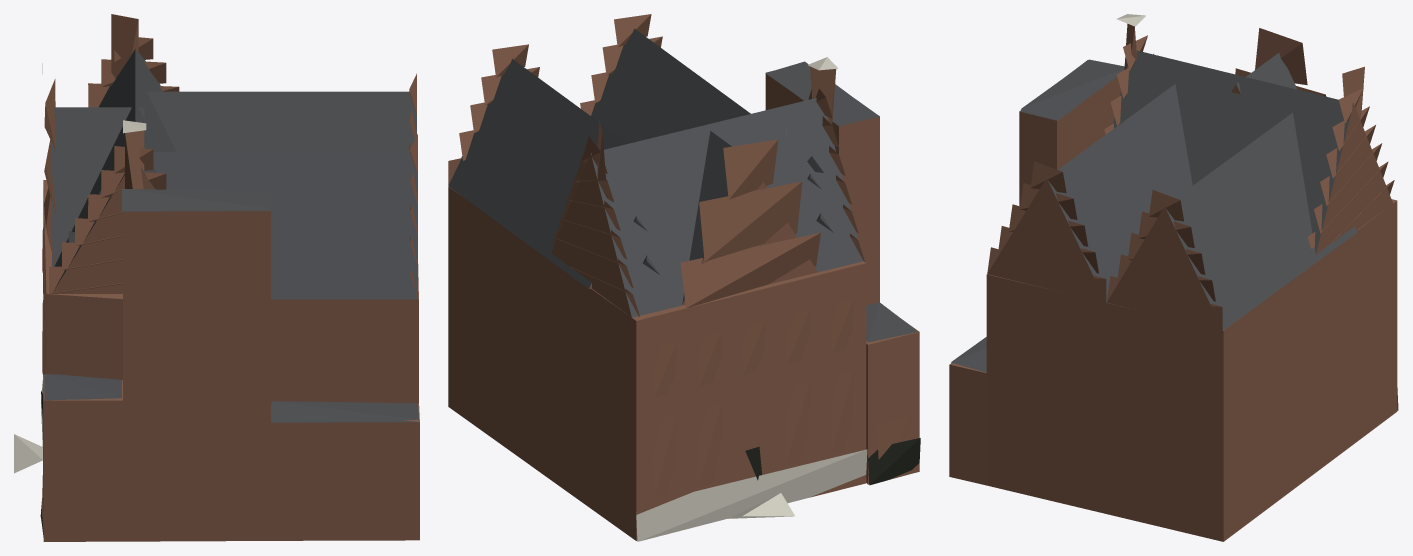
File: huis-met-de-hoofden.lod2.glb
3 renders of one model, left to right at view 1: azimuth 30°, elevation 25°; view 2: azimuth 150°, elevation 25°; view 3: azimuth 270°, elevation 25°, orthographic. The views are drawn at different scales.
Parts seen in each view (by area): view 1: lod2; view 2: lod2; view 3: lod2.
Boxes of the visible parts, x1=… form: lod2: x1=14, y1=14, x2=419, y2=541; lod2: x1=448, y1=14, x2=920, y2=541; lod2: x1=949, y1=14, x2=1398, y2=541.
Size of the model in its own units: 25.29 by 22.18 by 24.28.
